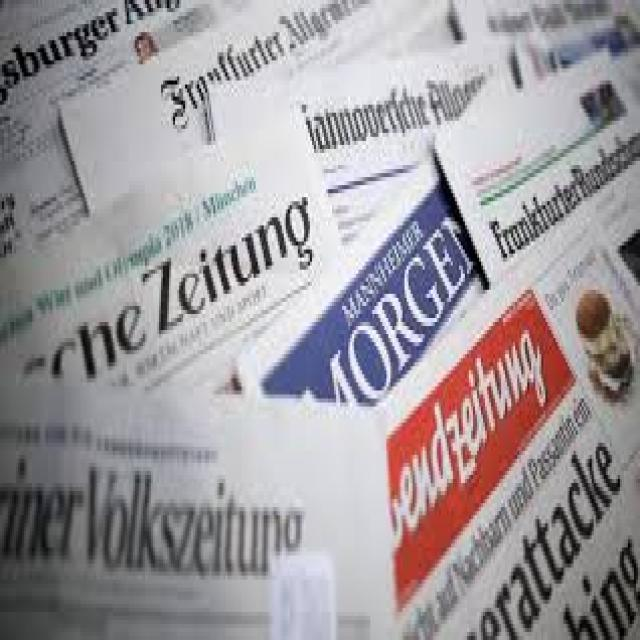paper: (4, 0, 629, 640)
